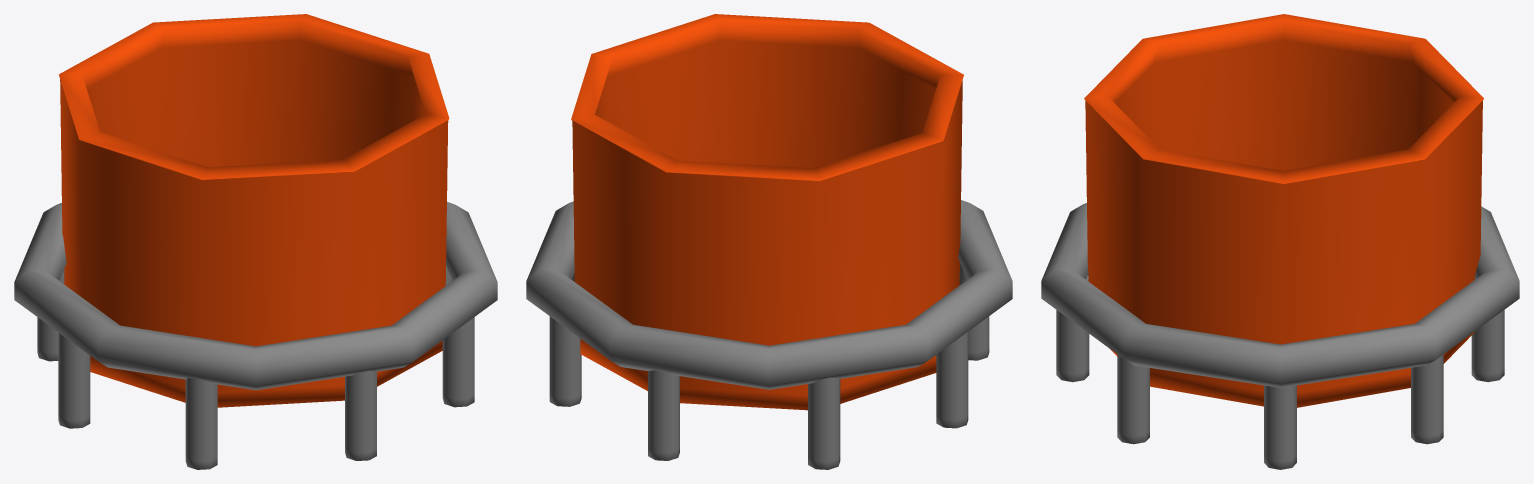
The model's file is CrabJar.fbx.
The picture shows the model from 3 angles, left to right: view 1: azimuth 30°, elevation 25°; view 2: azimuth 150°, elevation 25°; view 3: azimuth 270°, elevation 25°; orthographic projection.
Parts seen in each view (by area): view 1: Crab_Jar_02, Crab_Jar_01; view 2: Crab_Jar_02, Crab_Jar_01; view 3: Crab_Jar_02, Crab_Jar_01.
Part boxes in pixels (x1=…): Crab_Jar_02: x1=59, y1=14, x2=449, y2=407; Crab_Jar_01: x1=14, y1=202, x2=497, y2=469; Crab_Jar_02: x1=571, y1=14, x2=963, y2=410; Crab_Jar_01: x1=526, y1=200, x2=1012, y2=469; Crab_Jar_02: x1=1084, y1=14, x2=1483, y2=407; Crab_Jar_01: x1=1041, y1=203, x2=1519, y2=469.
Size of the model in its own units: 1.31 by 0.8557 by 1.33.
